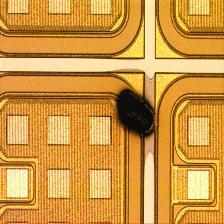PARTICLE: (110, 84, 165, 141)
